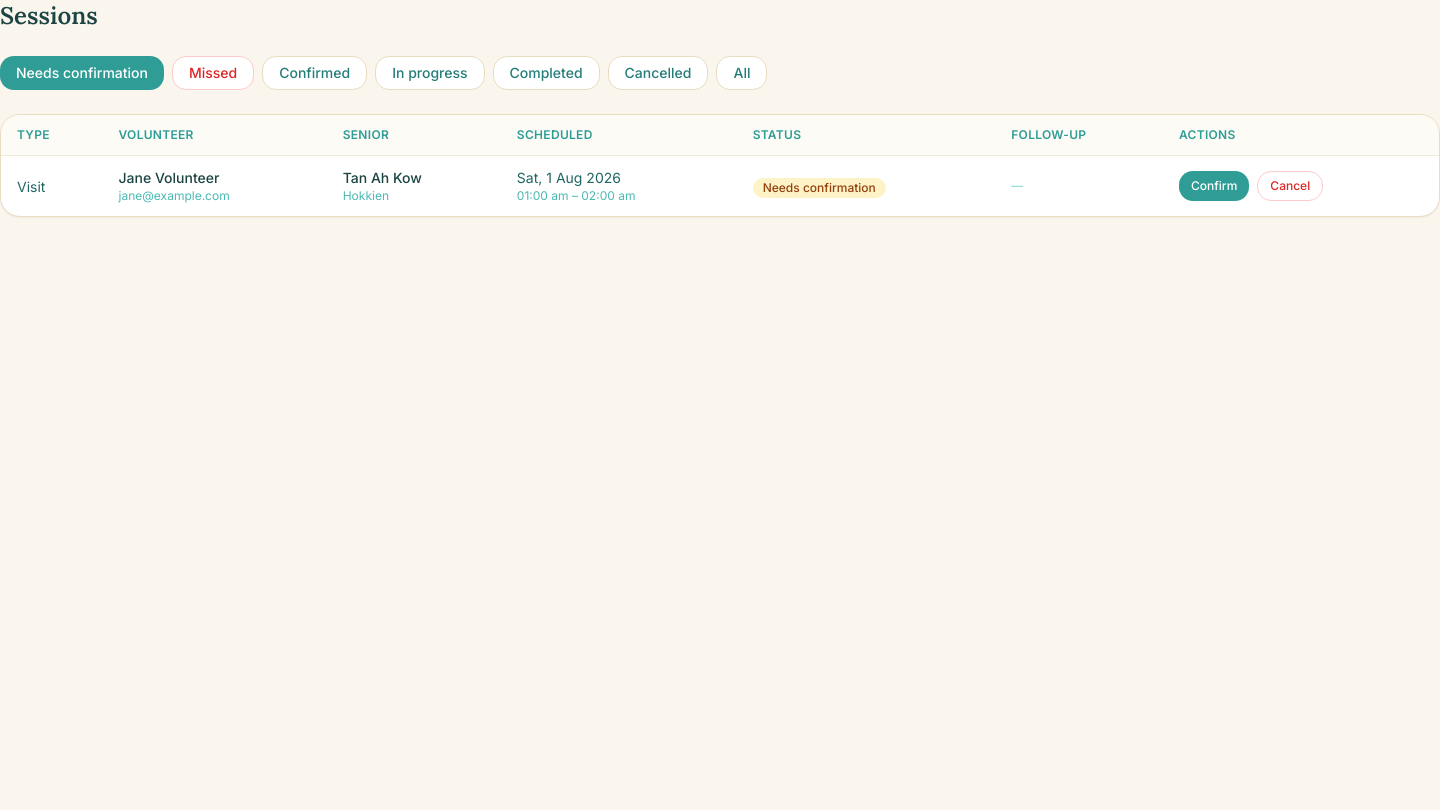
Test: Sessions — confirm flow (ConfirmDialogRow) › opens the confirm dialog and shows the one-time check-in code on success
Click the button "Confirm": {"x": 1214, "y": 186} [1179,171,1249,201]
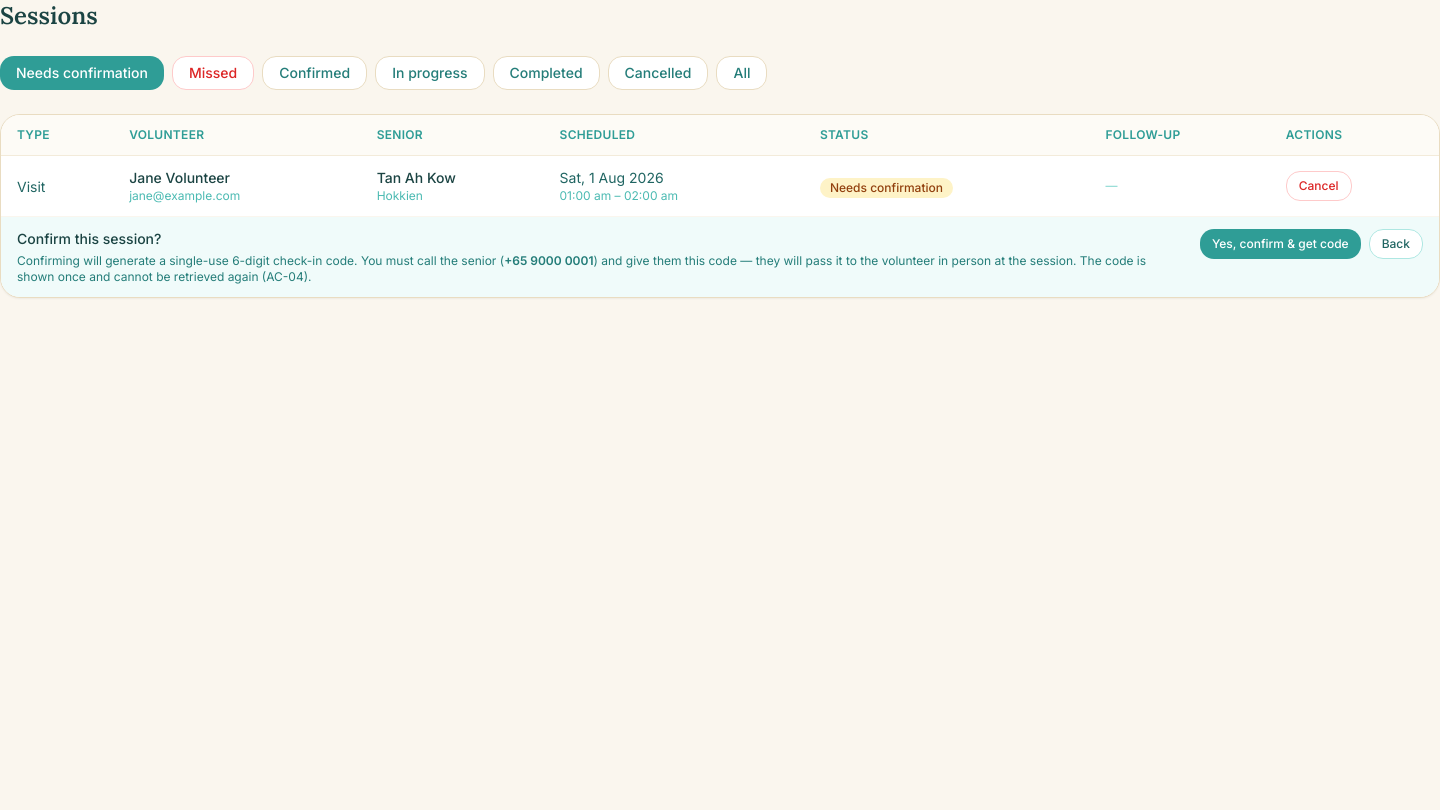
Check: the text "Confirm this session?" is shown, box [17,230,161,247]
Click the button "Yes, confirm & get code": {"x": 1280, "y": 244} [1200,229,1361,259]
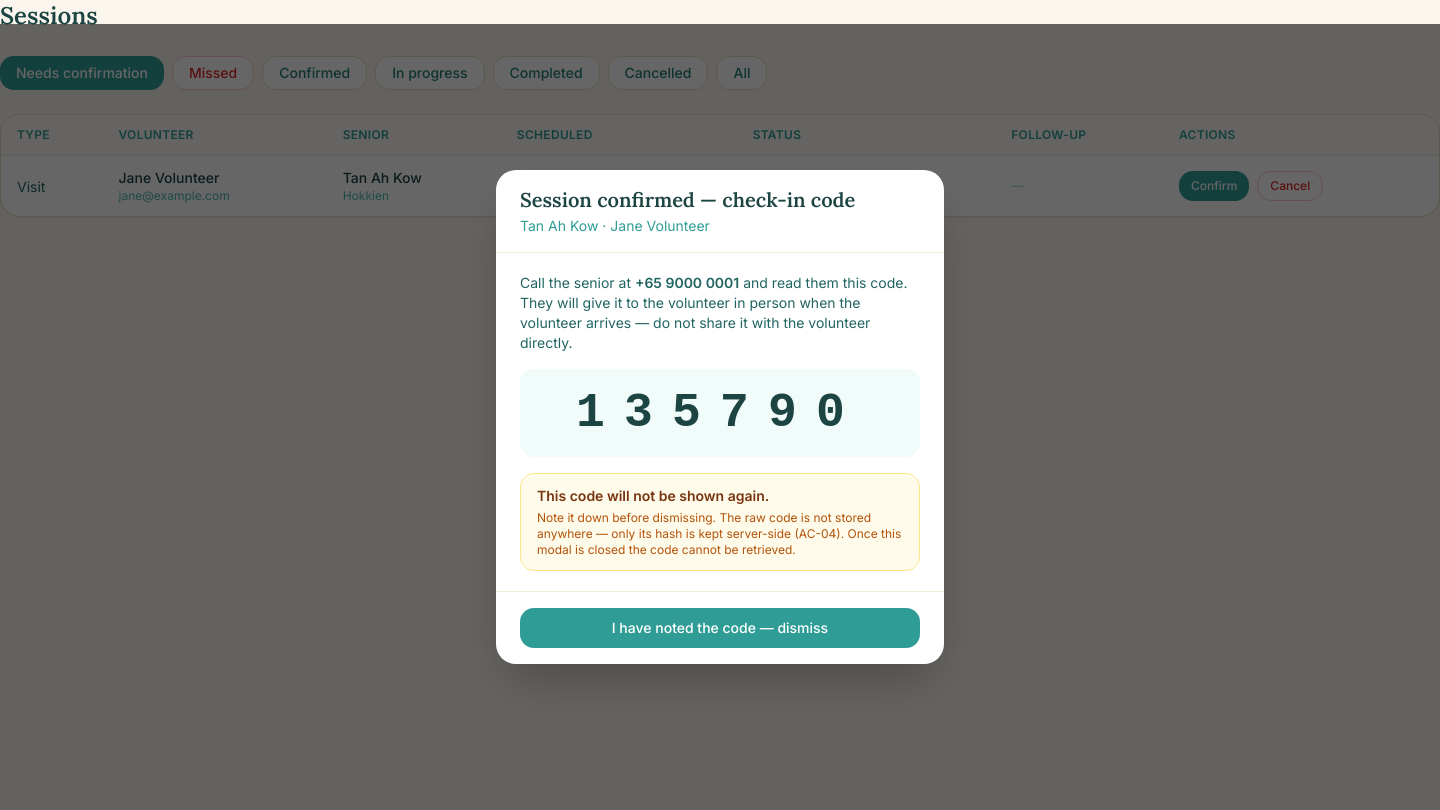
Check: the text "135790" is shown, box [576,386,864,440]
